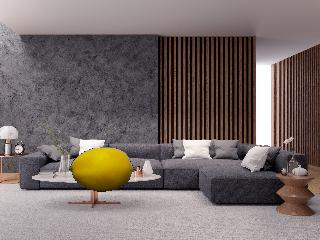lemon: (67, 143, 138, 195)
